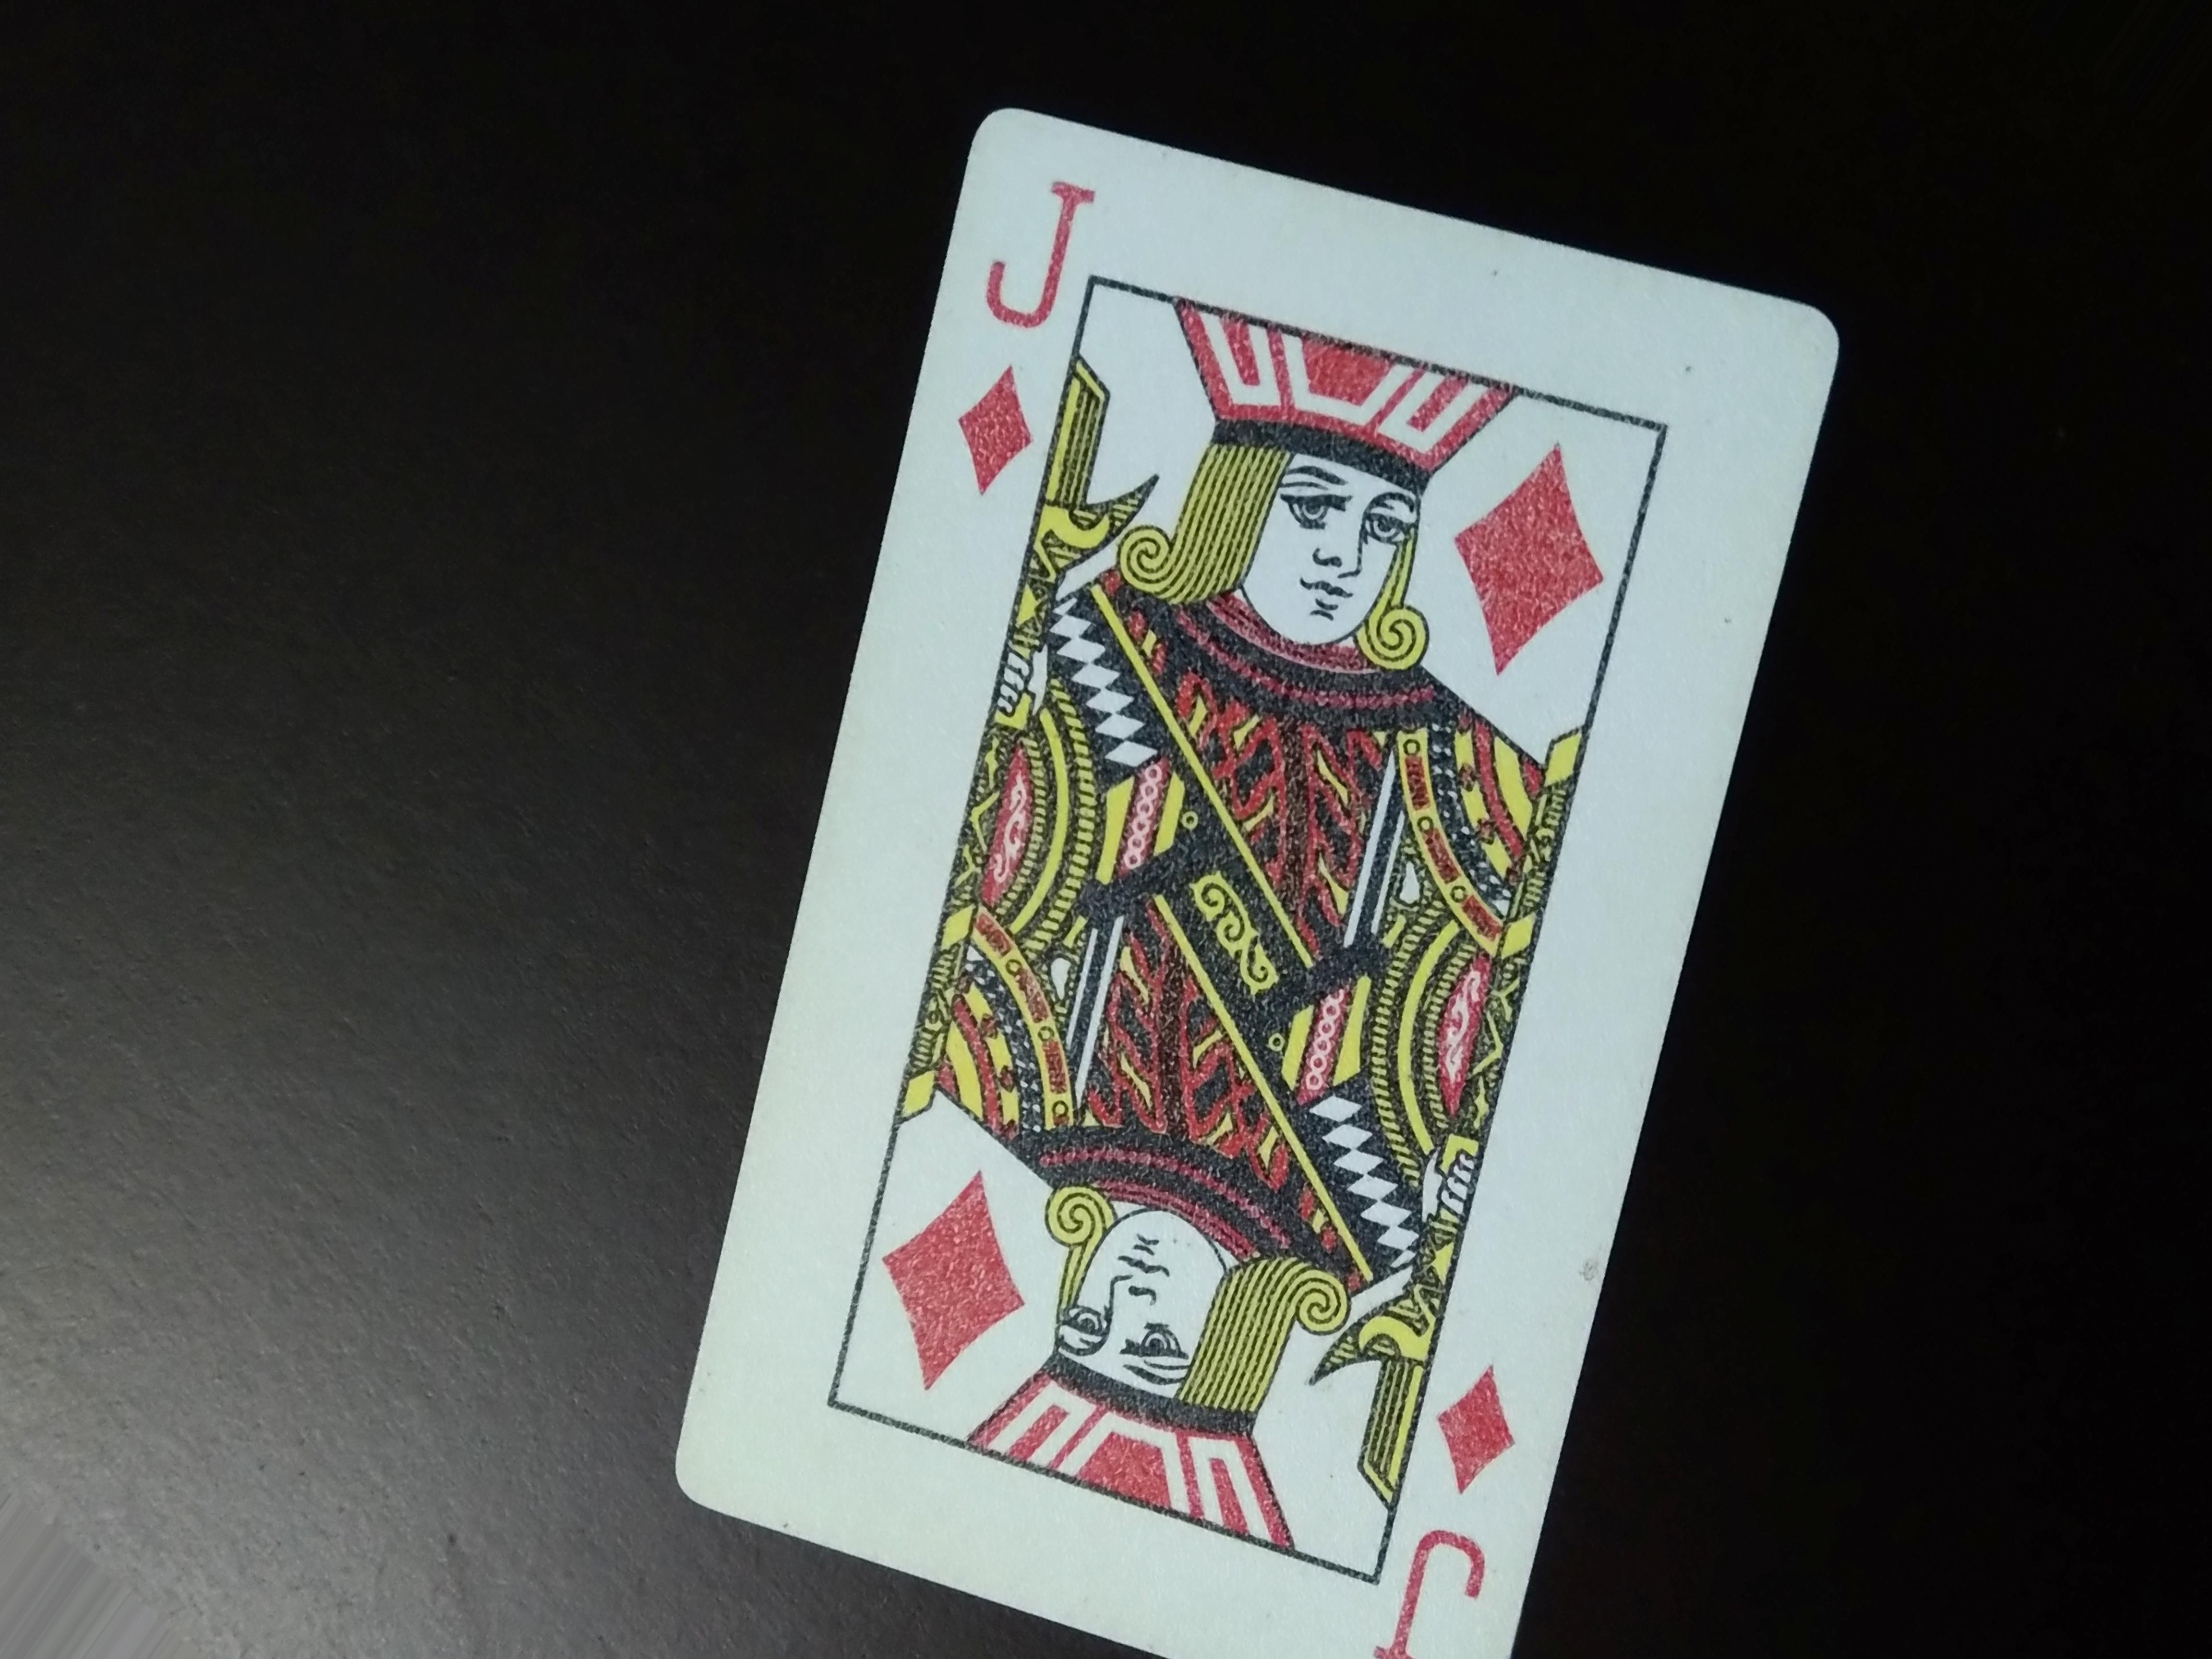JD: (949, 150, 1103, 526)
